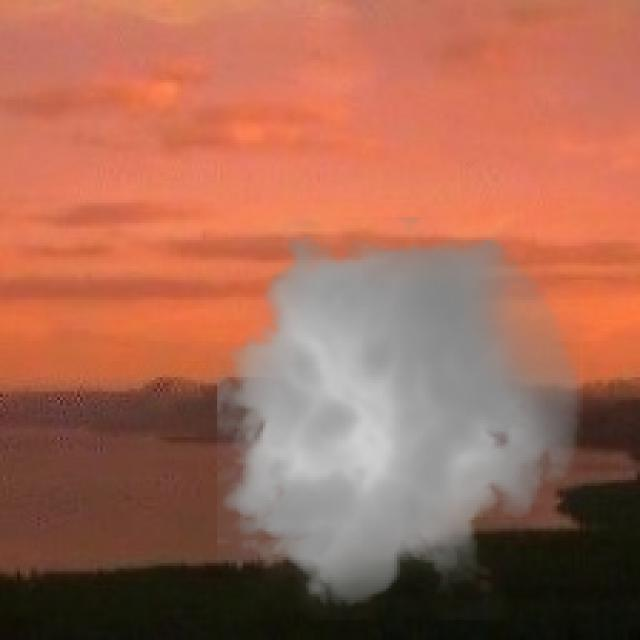smoke: (200, 217, 594, 620)
